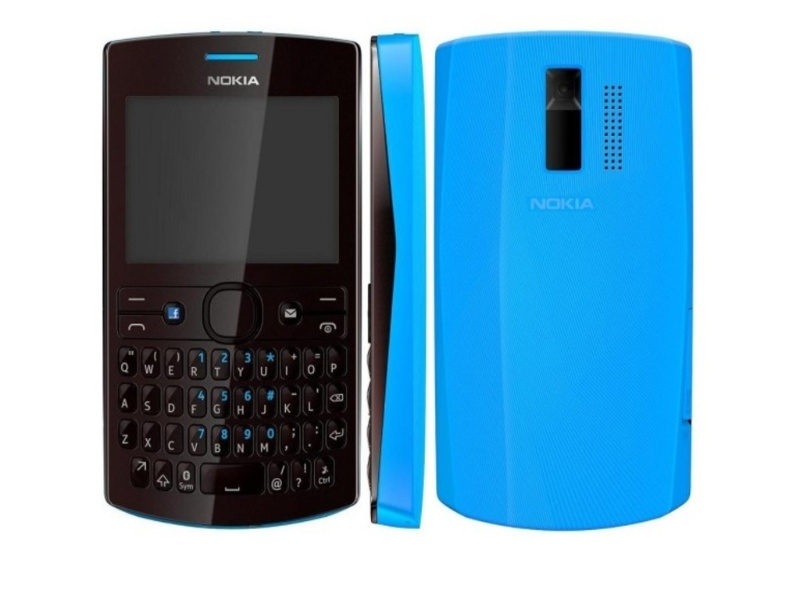cellphone: (95, 34, 363, 532), (434, 30, 697, 535), (368, 32, 430, 532)
